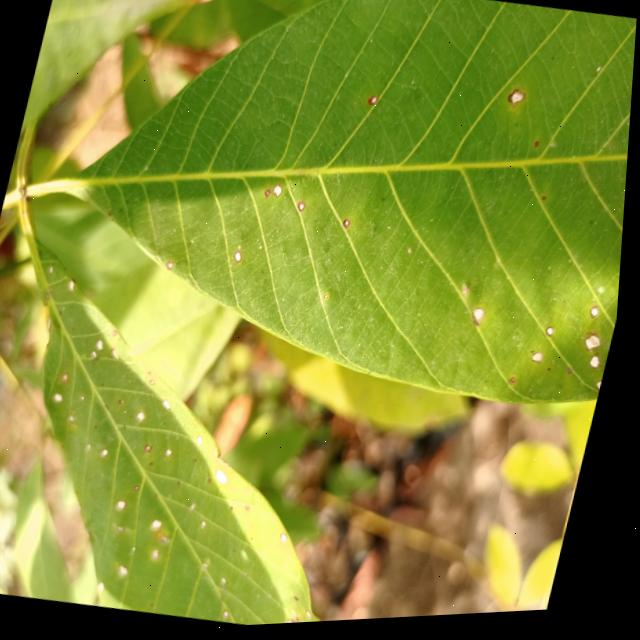Colletotrichum: (506, 92, 527, 112), (273, 185, 286, 201), (593, 361, 605, 376), (367, 98, 380, 111), (592, 312, 603, 325), (235, 253, 245, 266), (598, 385, 607, 399), (547, 332, 557, 343), (344, 222, 354, 231), (299, 204, 308, 214), (265, 191, 273, 200)
